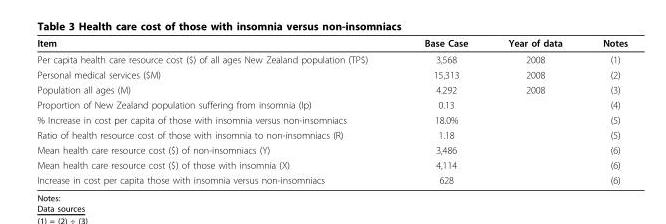table: (36, 36, 627, 185)
table column: (36, 36, 395, 185), (487, 36, 581, 185), (395, 36, 487, 185), (581, 36, 627, 185)
table column header: (36, 36, 627, 50)
table row: (36, 50, 627, 66), (36, 96, 627, 112), (36, 66, 627, 81), (36, 81, 627, 96), (36, 112, 627, 127), (36, 127, 627, 142), (36, 142, 627, 157), (36, 157, 627, 172), (36, 36, 627, 50), (36, 172, 627, 185)
